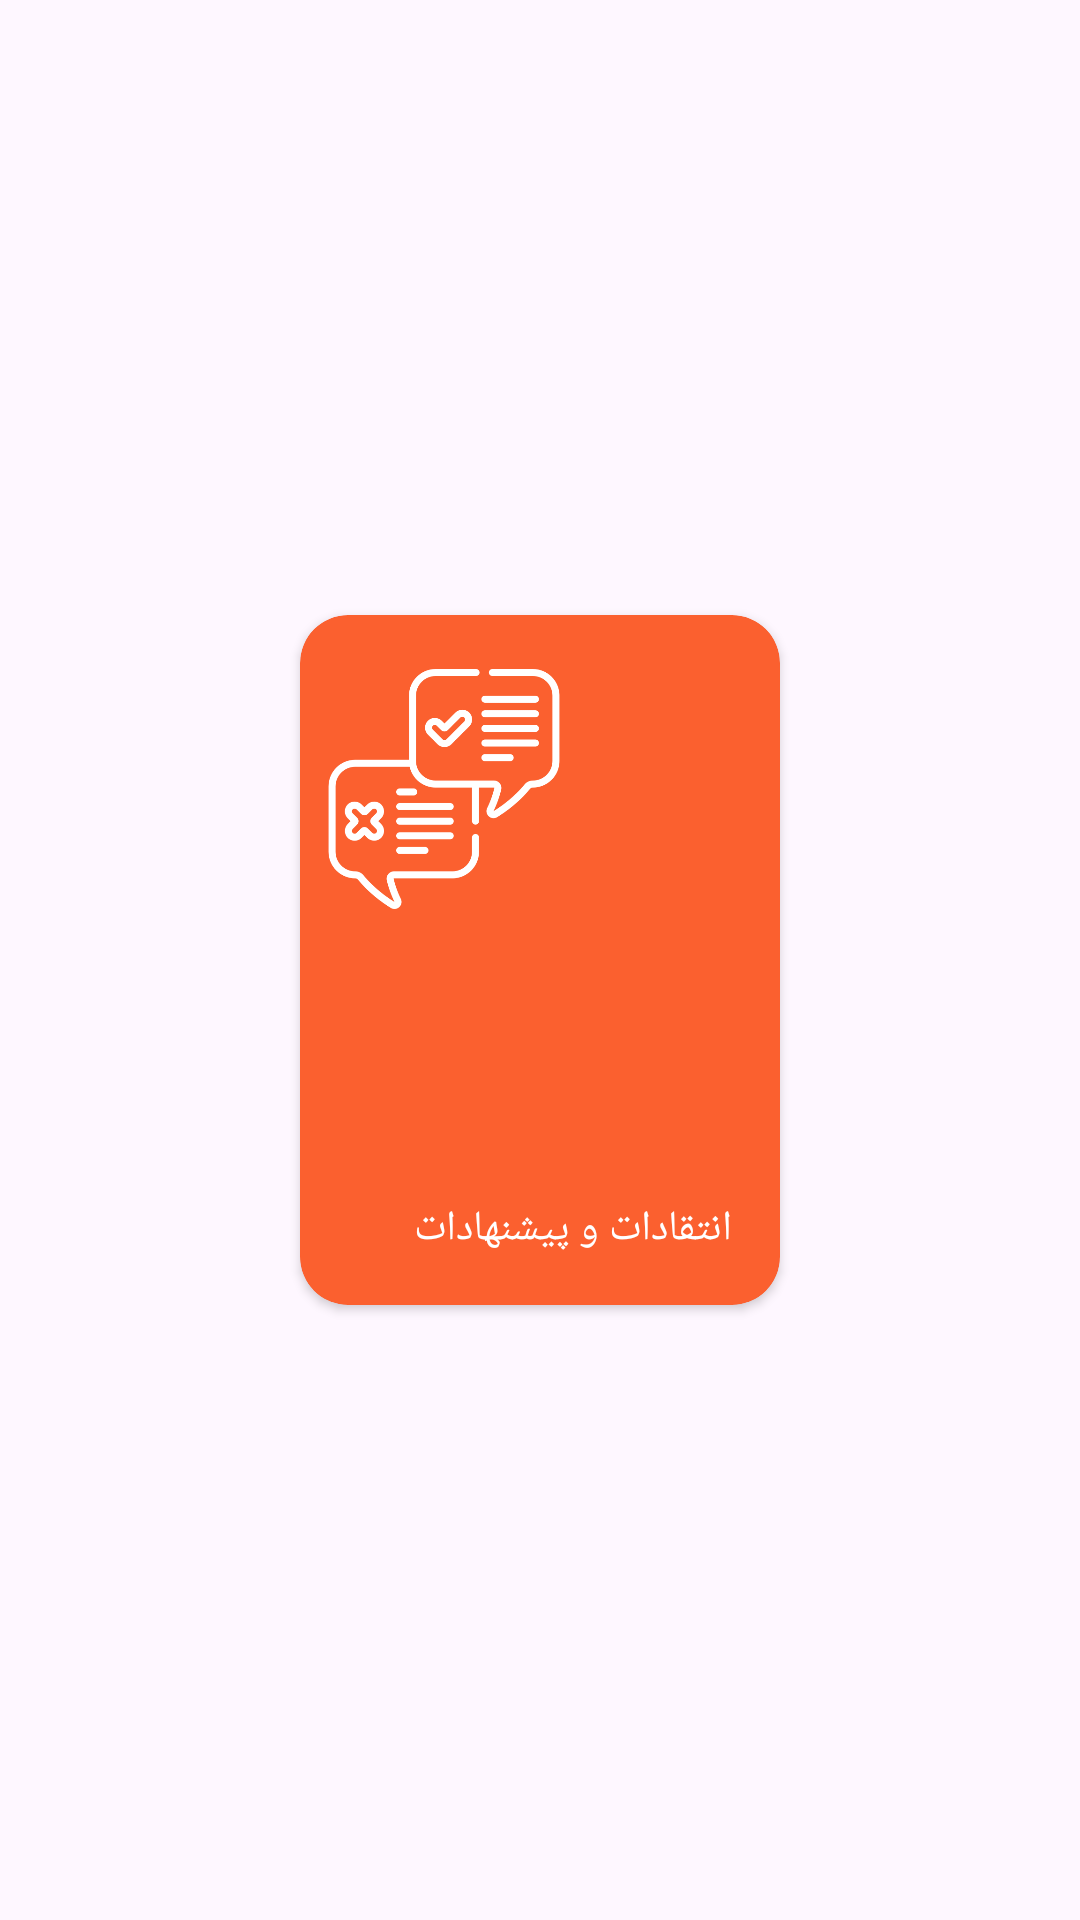

Icon bounding boxes for this 1080px×1920px phone screenshot, format BBox(x1, y1, x2, y2):
sugestion: BBox(328, 669, 560, 909)
